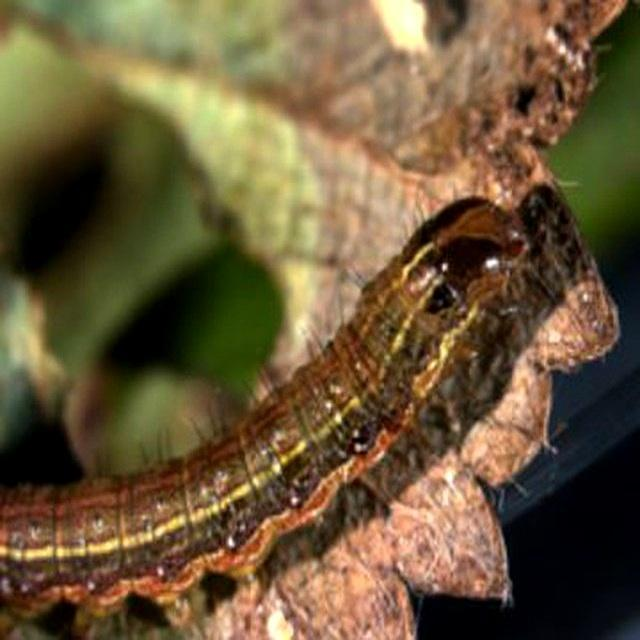gusano_cogollero: (0, 192, 542, 640)
